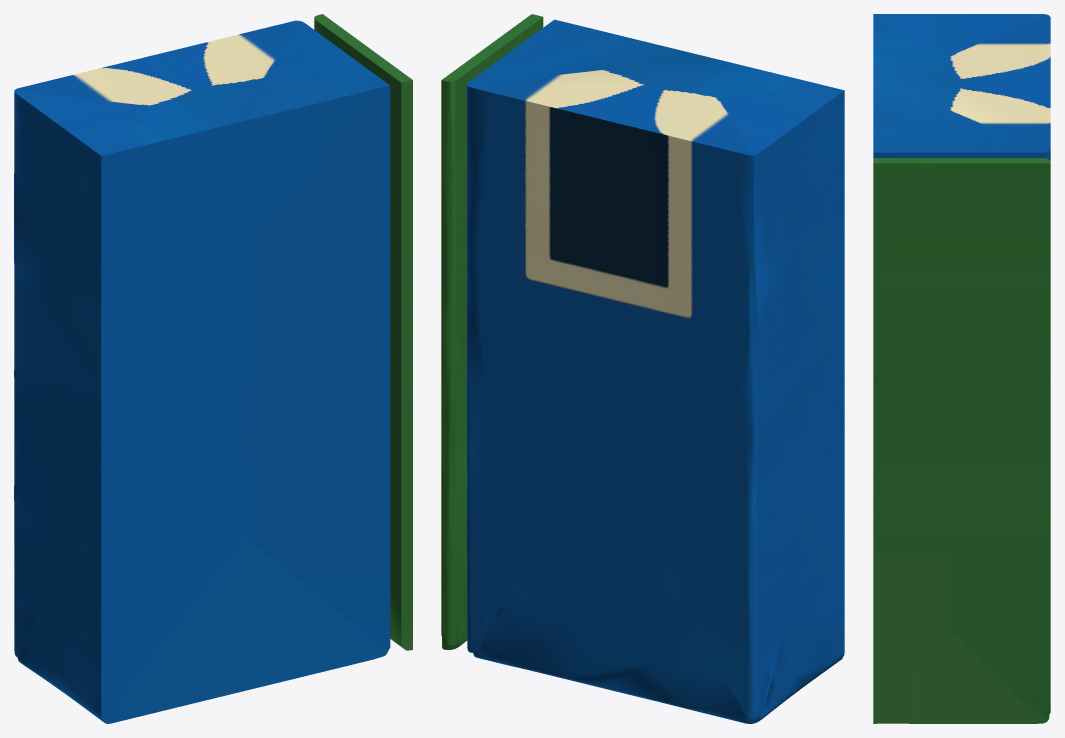
Rendered from 3-ground-floor-back-left.fbx.
The picture shows the model from 3 angles, left to right: view 1: azimuth 30°, elevation 25°; view 2: azimuth 150°, elevation 25°; view 3: azimuth 270°, elevation 25°; orthographic projection. The views are drawn at different scales.
Parts seen in each view (by area): view 1: ground-floor-back-left; view 2: ground-floor-back-left; view 3: ground-floor-back-left.
Boxes of the visible parts, x1=… form: ground-floor-back-left: x1=14, y1=14, x2=412, y2=723; ground-floor-back-left: x1=441, y1=14, x2=844, y2=723; ground-floor-back-left: x1=873, y1=14, x2=1050, y2=723.
Bounding box in the file's own units: 5951 × 10386 × 2979.
Materials: 1 (1 with a texture image).
